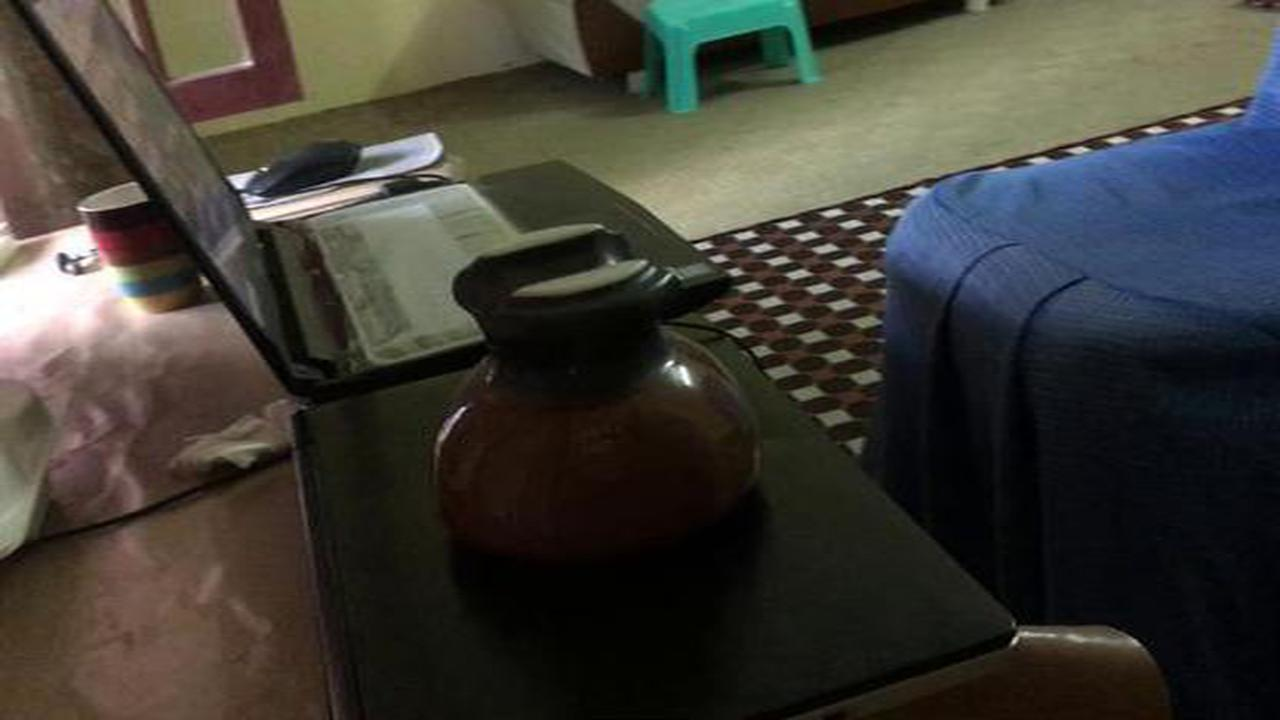insulator_pin: (395, 217, 785, 584)
